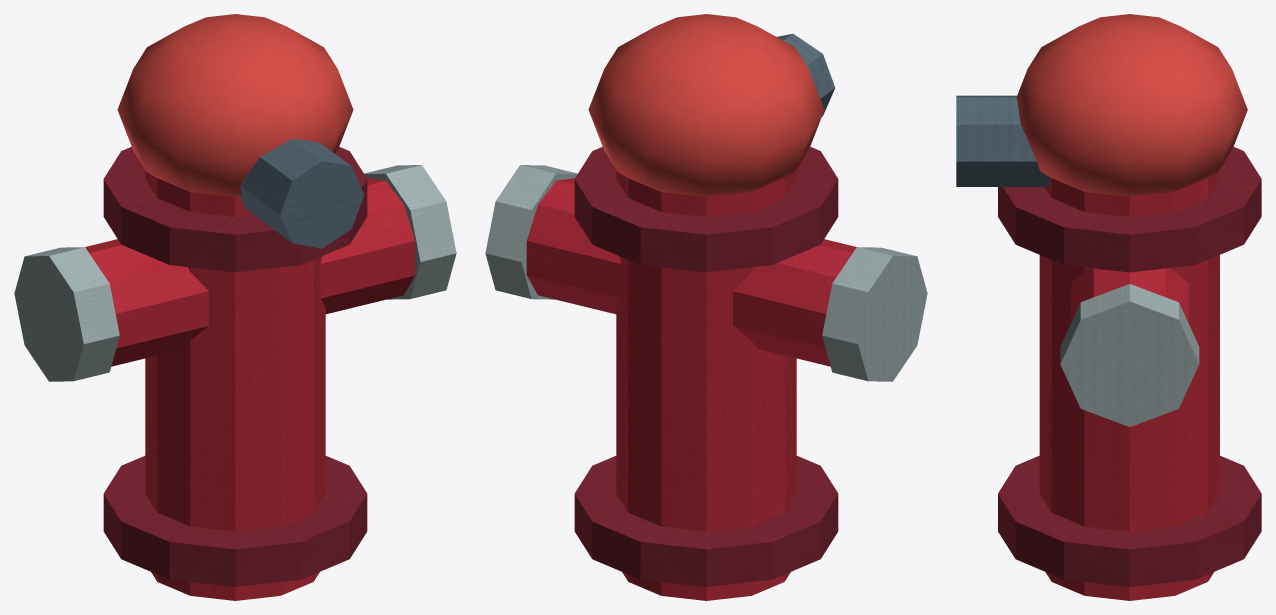
Rendered from hydrant.glb.
3 views of the same model, side by side, from view 1: azimuth 30°, elevation 25°; view 2: azimuth 150°, elevation 25°; view 3: azimuth 270°, elevation 25° (orthographic).
Parts seen in each view (by area): view 1: hydrant; view 2: hydrant; view 3: hydrant.
Part boxes in pixels (x1,y1,x2,y2): hydrant: (14,14,456,600); hydrant: (485,14,927,600); hydrant: (956,14,1261,600).
Bounding box in the file's own units: 0.62 × 0.85 × 0.44.
Materials: 2 (2 with a texture image).
